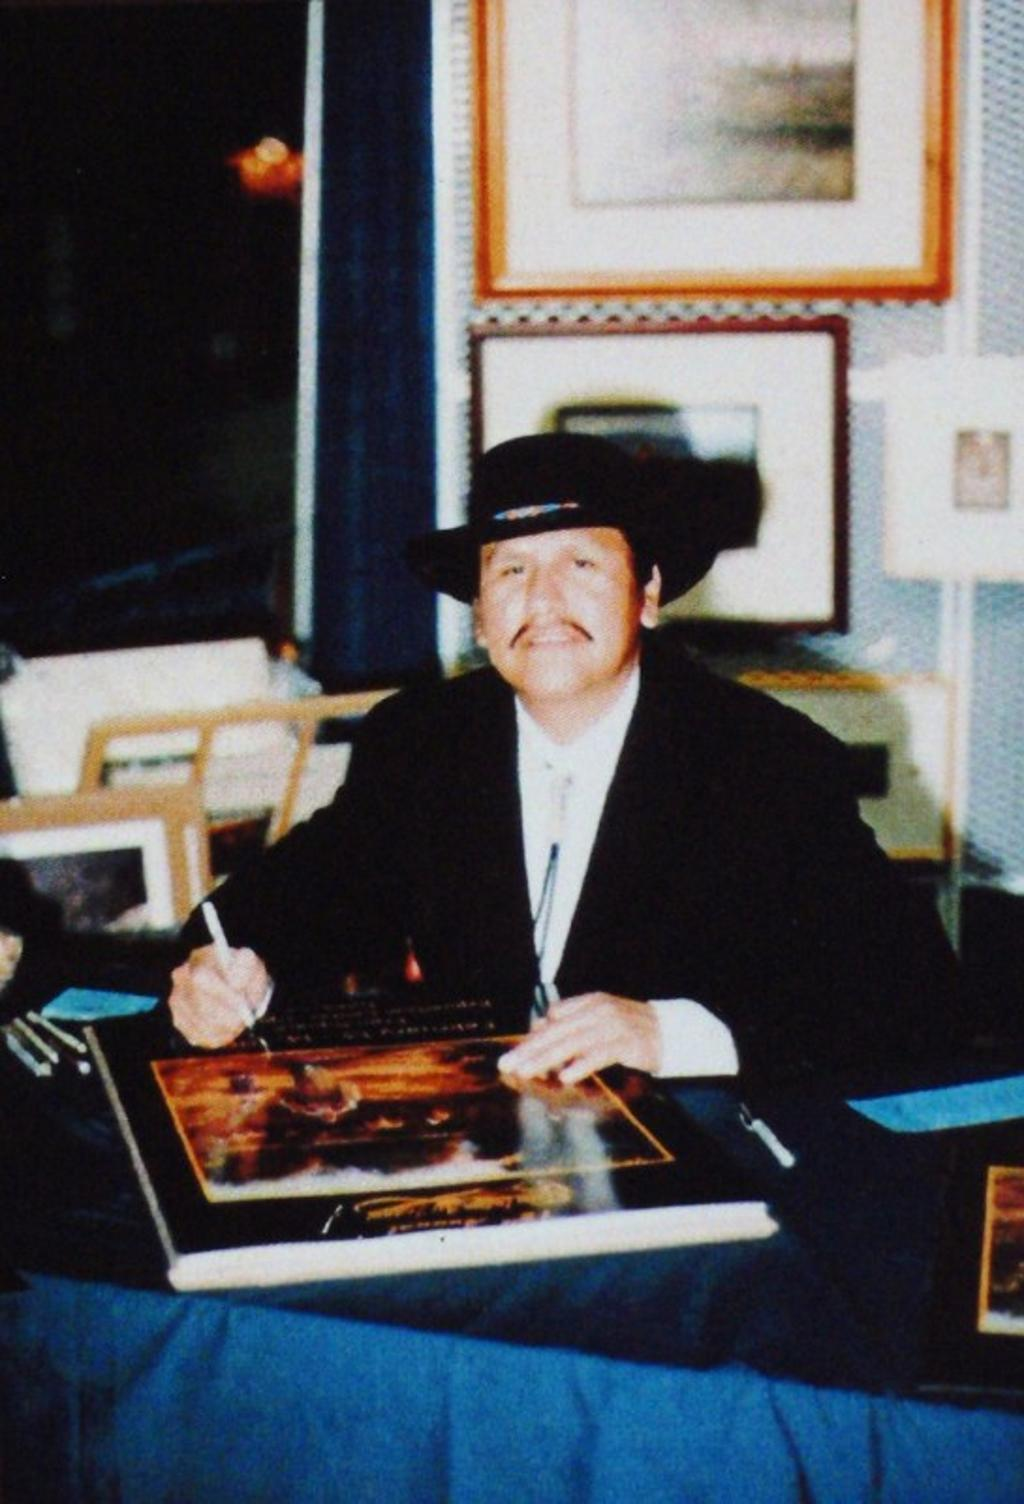face: (481, 496, 628, 681)
